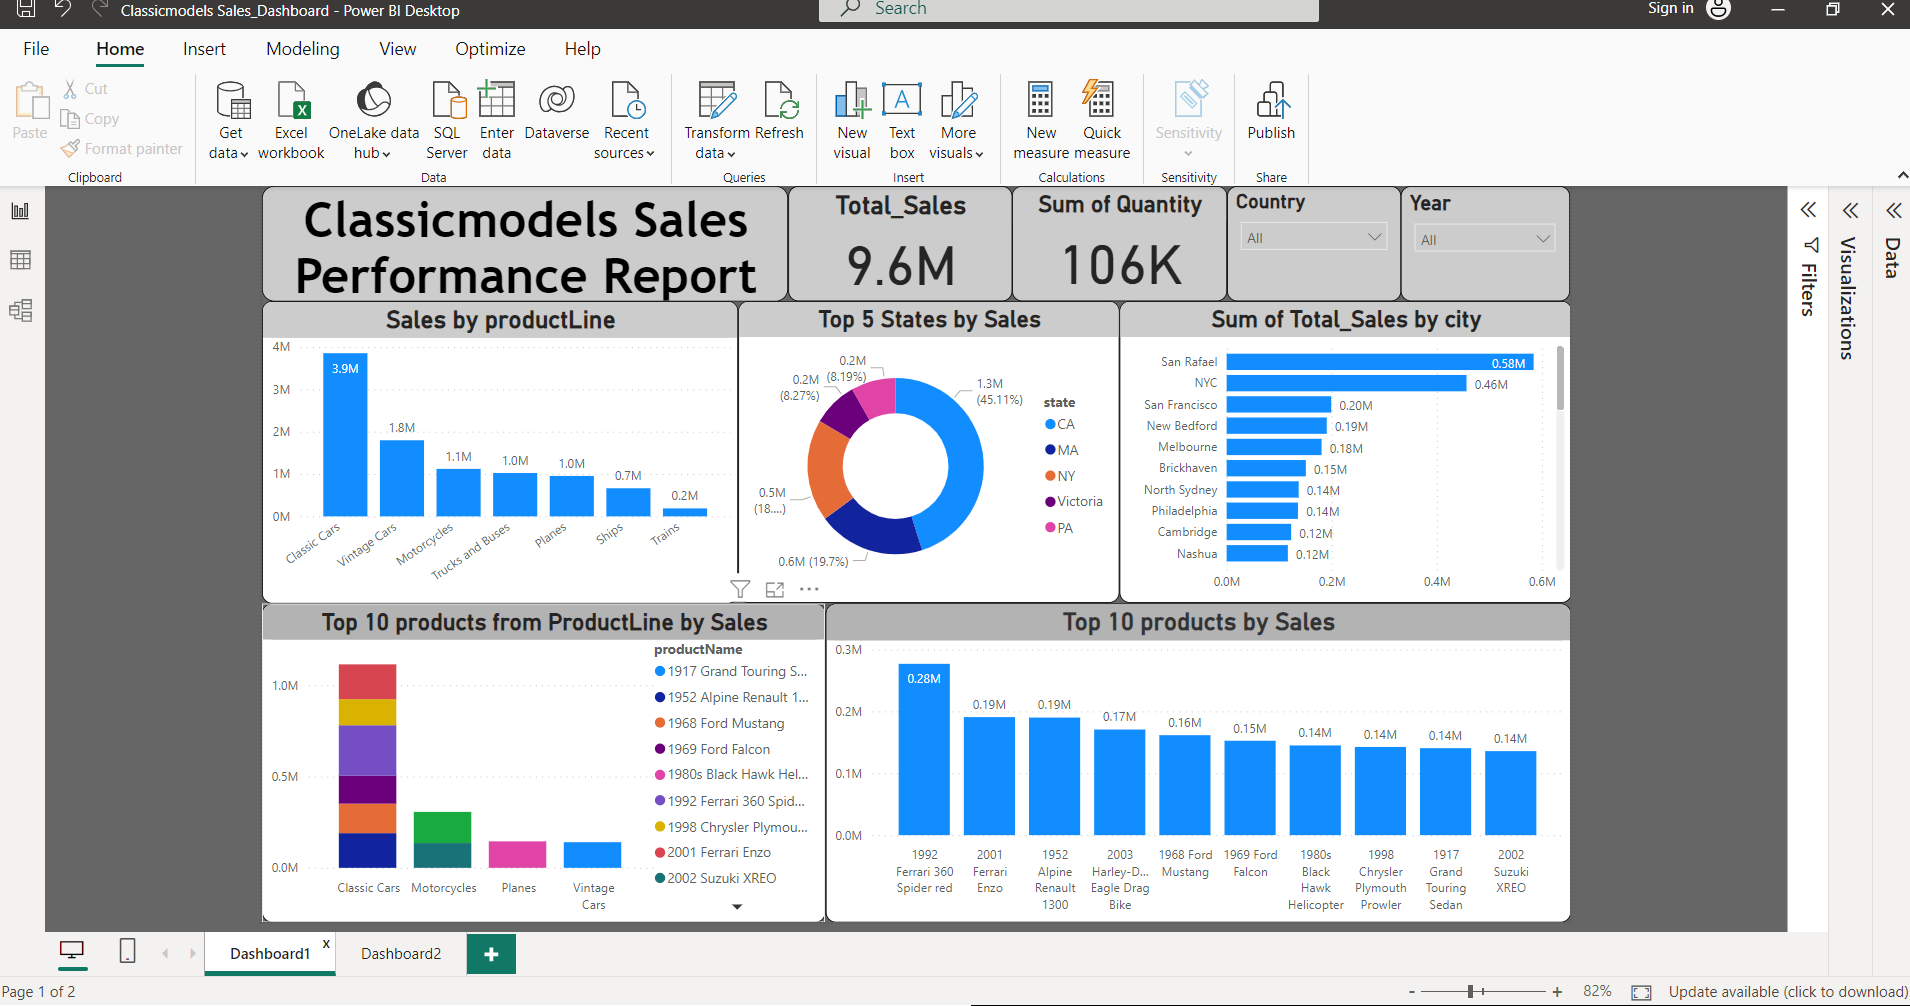

Layout of this report page (visuals, bound fields, positions):
{"tool":"powerbi","page":{"name":"Dashboard1","canvas":[1280,720],"ordinal":0},"visuals":[{"type":"columnChart","title":"Sales by productLine","fields":{"Category":["classicmodels products.productLine"],"Y":["Sum(classicmodels orderdetails.Total_Sales)"]},"box":[0,112.5,465.7,295.8],"z":0},{"type":"columnChart","title":"Top 10  products by Sales","fields":{"Category":["classicmodels products.productName"],"Y":["Sum(classicmodels orderdetails.Total_Sales)"]},"box":[551.3,408.3,728.6,311.7],"z":1000},{"type":"barChart","fields":{"Y":["Sum(classicmodels orderdetails.Total_Sales)"],"Category":["classicmodels customers.city"]},"box":[838.5,112.8,442.3,294.9],"z":2000},{"type":"donutChart","title":"Top 5  States by Sales","fields":{"Y":["Sum(classicmodels orderdetails.Total_Sales)"],"Category":["classicmodels customers.state"]},"box":[465.4,112.8,373.1,294.9],"z":3000},{"type":"slicer","title":"Country","fields":{"Values":["classicmodels customers.country"]},"box":[943.6,0,170.5,112.8],"z":4000},{"type":"textbox","title":"Classicmodels Sales Performance Report","box":[0,0,514.6,112.5],"z":5000},{"type":"card","title":"Total_Sales","fields":{"Values":["Sum(classicmodels orderdetails.Total_Sales)"]},"box":[514.6,0,218.8,112.5],"z":6000},{"type":"card","title":"Sum of Quantity ","fields":{"Values":["Sum(classicmodels orderdetails.quantityOrdered)"]},"box":[733.4,0,210.3,112.5],"z":7000},{"type":"slicer","title":"Year","fields":{"Values":["classicmodels orders.orderDate.Variation.Date Hierarchy.Year"]},"box":[1114.1,0,165.4,112.8],"z":8000},{"type":"columnChart","title":"Top 10 products from ProductLine by Sales","fields":{"Category":["classicmodels products.productLine"],"Series":["classicmodels products.productName"],"Y":["Sum(classicmodels orderdetails.Total_Sales)"]},"box":[0,408.3,551.3,311.7],"z":9000}]}

Visuals, with their boxes on the page's 1280x720 design canvas (x1, y1, x2, y2). These are canvas units, not pixel positions in the 1910x1006 screenshot, which may show the page scaled, cropped or inside an application window:
"Sales by productLine" columnChart: bbox(0, 112, 466, 408)
"Top 10  products by Sales" columnChart: bbox(551, 408, 1280, 720)
barChart - Sum(classicmodels orderdetails.Total_Sales) x classicmodels customers.city: bbox(838, 113, 1281, 408)
"Top 5  States by Sales" donutChart: bbox(465, 113, 838, 408)
"Country" slicer: bbox(944, 0, 1114, 113)
"Classicmodels Sales Performance Report" textbox: bbox(0, 0, 515, 112)
"Total_Sales" card: bbox(515, 0, 733, 112)
"Sum of Quantity " card: bbox(733, 0, 944, 112)
"Year" slicer: bbox(1114, 0, 1280, 113)
"Top 10 products from ProductLine by Sales" columnChart: bbox(0, 408, 551, 720)
